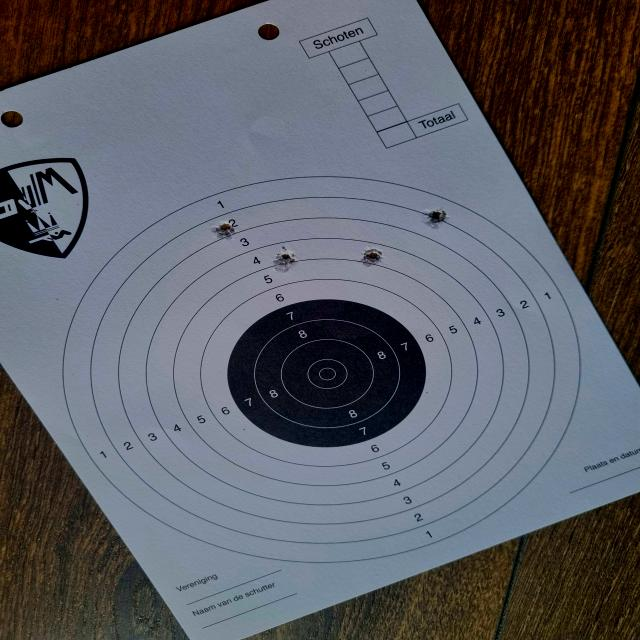2: (422, 208, 447, 228)
3: (212, 223, 235, 240)
5: (357, 248, 383, 267), (274, 251, 296, 273)
Target: (55, 171, 582, 568)
black_contour: (225, 298, 427, 449)
